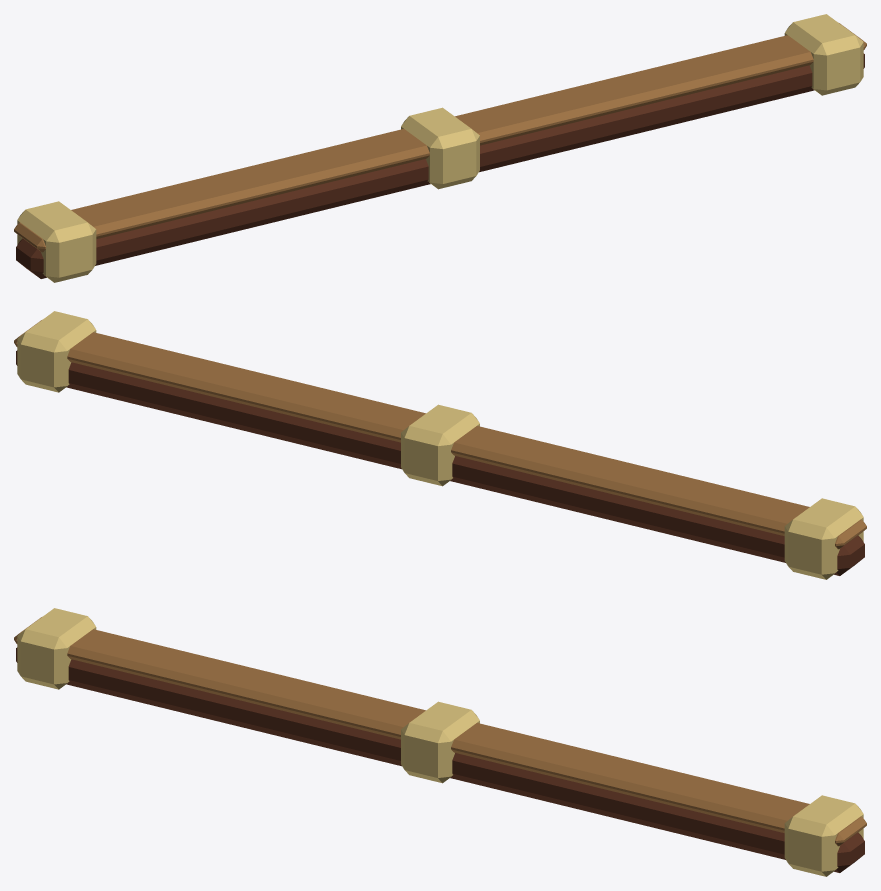
Rendered from field_border.glb.
3 renders of one model, top to bottom at view 1: azimuth 30°, elevation 25°; view 2: azimuth 150°, elevation 25°; view 3: azimuth 330°, elevation 25°, orthographic.
Parts seen in each view (by area): view 1: field_border_Surface; view 2: field_border_Surface; view 3: field_border_Surface.
Part boxes in pixels (left/top/right/bottom): field_border_Surface: left=14, top=14, right=866, bottom=282; field_border_Surface: left=14, top=311, right=866, bottom=579; field_border_Surface: left=14, top=608, right=866, bottom=876.
Size of the model in its own units: 4 by 0.24 by 0.32.
Materials: 1 (1 with a texture image).
